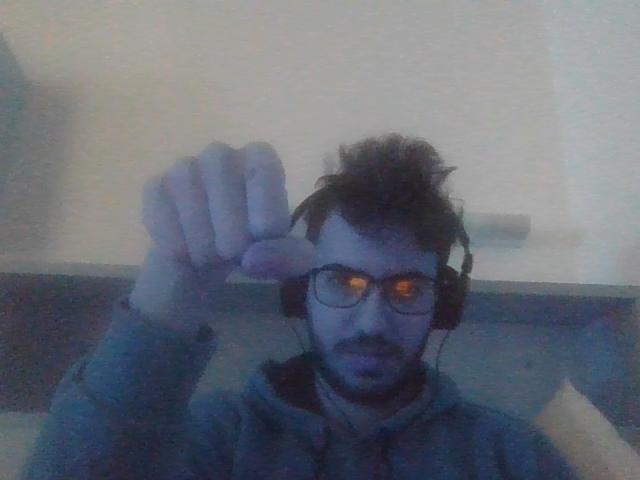yes: (136, 139, 318, 278)
